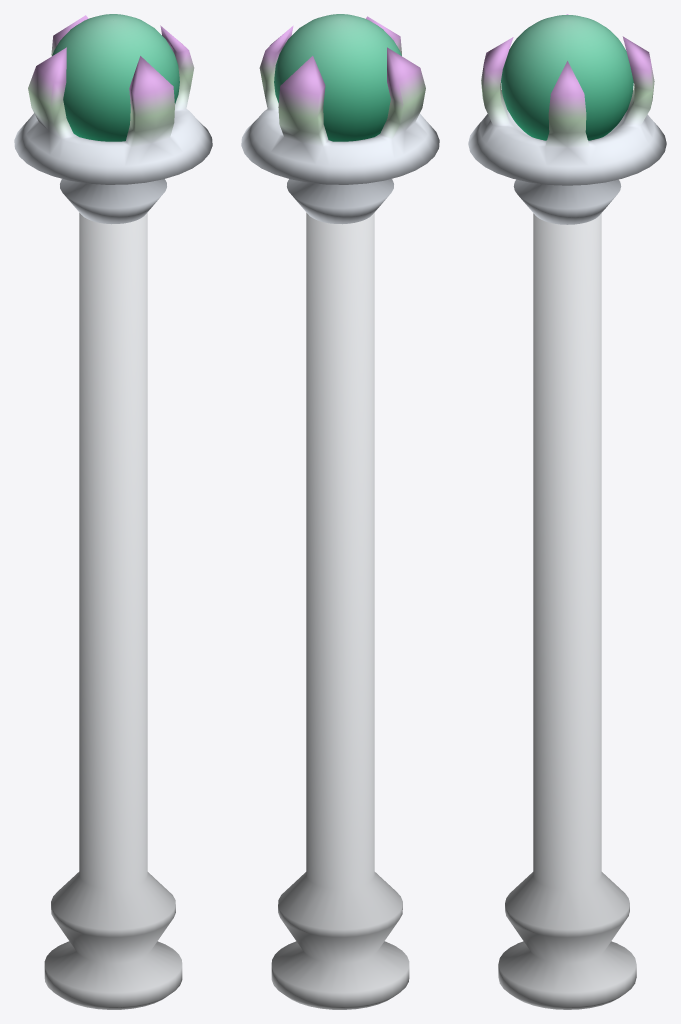
Rendered from cane_up.obj.
3 renders of one model, left to right at view 1: azimuth 30°, elevation 25°; view 2: azimuth 150°, elevation 25°; view 3: azimuth 270°, elevation 25°, orthographic.
Visible parts, largest first — view 1: 下, 上, 宝玉; view 2: 下, 上, 宝玉; view 3: 下, 上, 宝玉.
Part boxes in pixels (x1,y1,x2,y2): 下: [44, 212, 182, 1009]; 上: [14, 15, 212, 224]; 宝玉: [52, 14, 179, 141]; 下: [271, 212, 409, 1009]; 上: [241, 16, 439, 224]; 宝玉: [274, 14, 401, 141]; 下: [498, 213, 636, 1009]; 上: [468, 14, 666, 224]; 宝玉: [501, 15, 633, 140].
Bounding box in the file's own units: 1.23 × 6.63 × 1.23.
